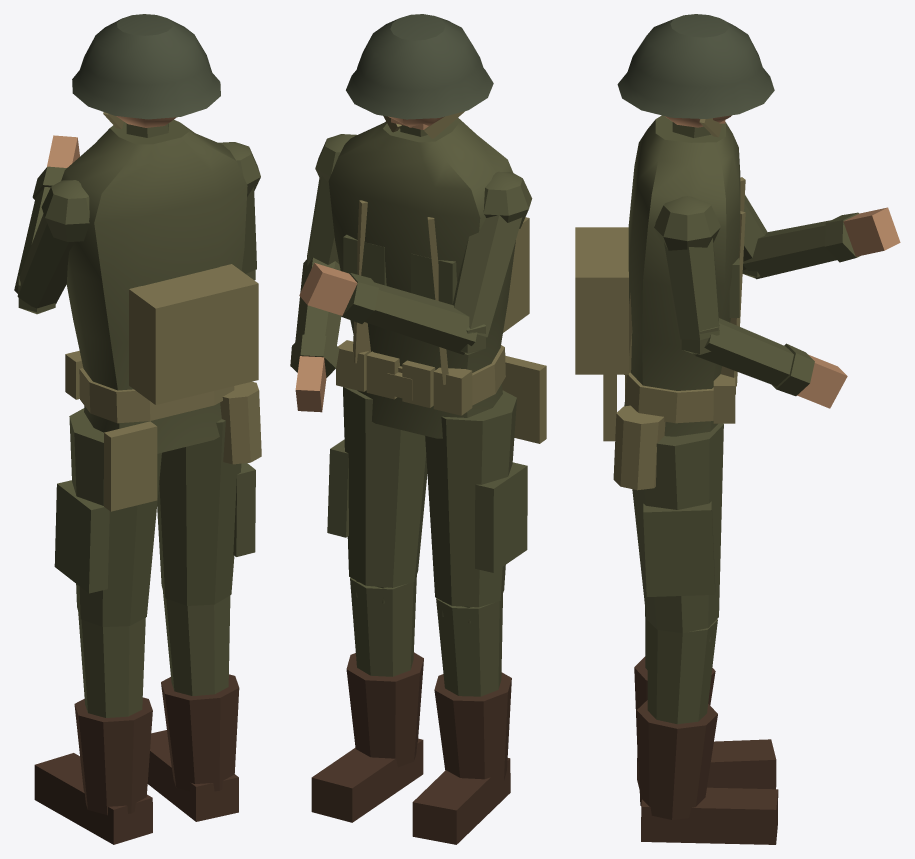
Rendered from soldier_us_stand_rifle.glb.
3 views of the same model, side by side, from view 1: azimuth 30°, elevation 25°; view 2: azimuth 150°, elevation 25°; view 3: azimuth 270°, elevation 25° (orthographic).
Parts seen in each view (by area): view 1: soldier_us_stand_rifle; view 2: soldier_us_stand_rifle; view 3: soldier_us_stand_rifle.
Part boxes in pixels (x1,y1,x2,y2): soldier_us_stand_rifle: (14,14,261,844); soldier_us_stand_rifle: (290,14,546,844); soldier_us_stand_rifle: (575,14,900,844).
Bounding box in the file's own units: 0.5085 × 1.75 × 0.6544.
